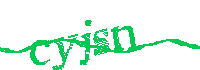c: (29, 36, 52, 68)
j: (79, 15, 92, 67)
n: (110, 22, 139, 53)
s: (91, 25, 111, 56)
y: (51, 32, 77, 70)
